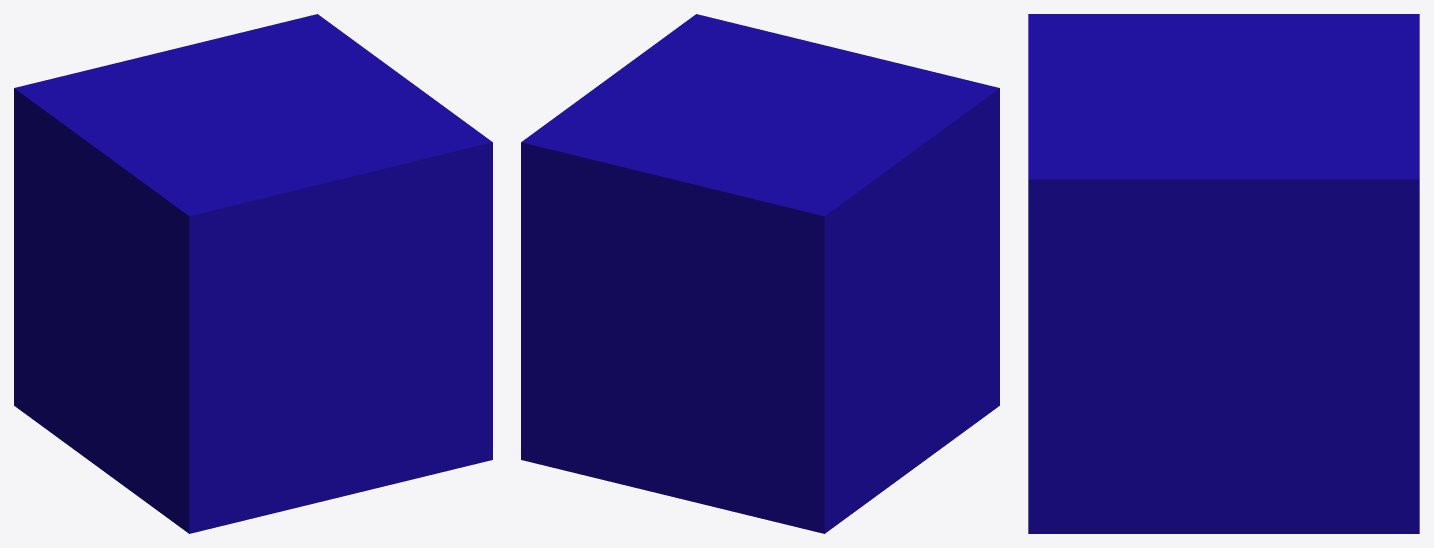
Rendered from navyCube.obj.
3 renders of one model, left to right at view 1: azimuth 30°, elevation 25°; view 2: azimuth 150°, elevation 25°; view 3: azimuth 270°, elevation 25°, orthographic. The views are drawn at different scales.
Bounding box in the file's own units: 1 × 1 × 1.
Materials: 1 (1 with a texture image).
